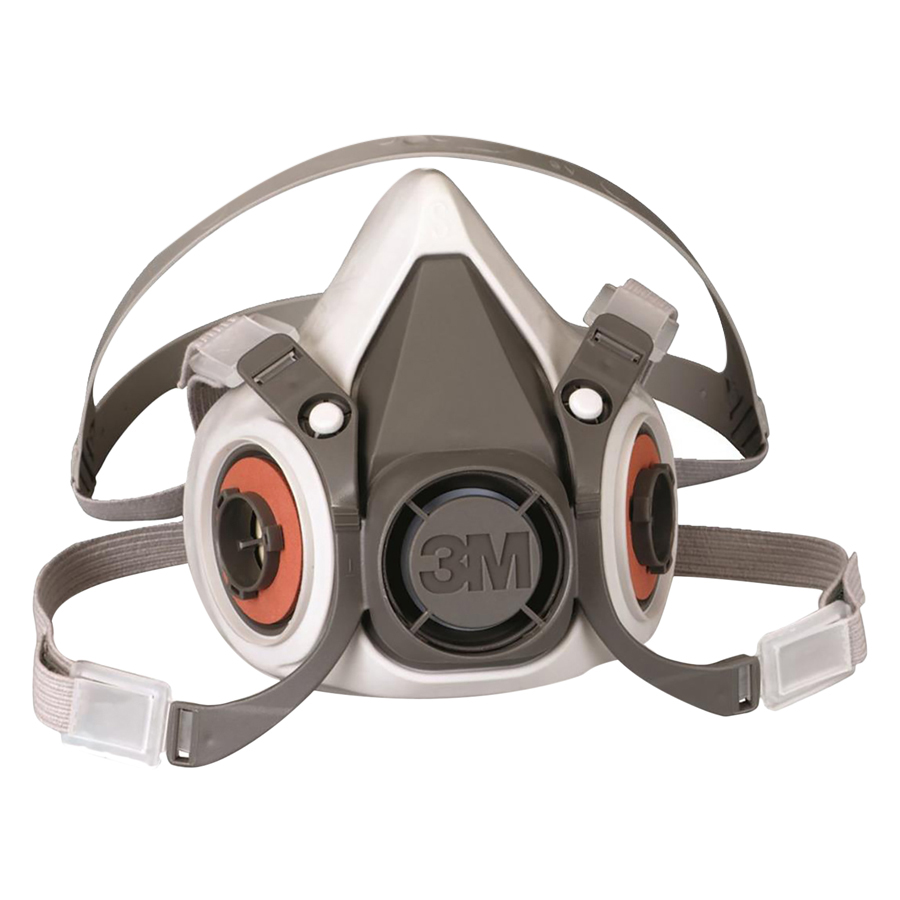3M: (416, 522, 537, 601)
